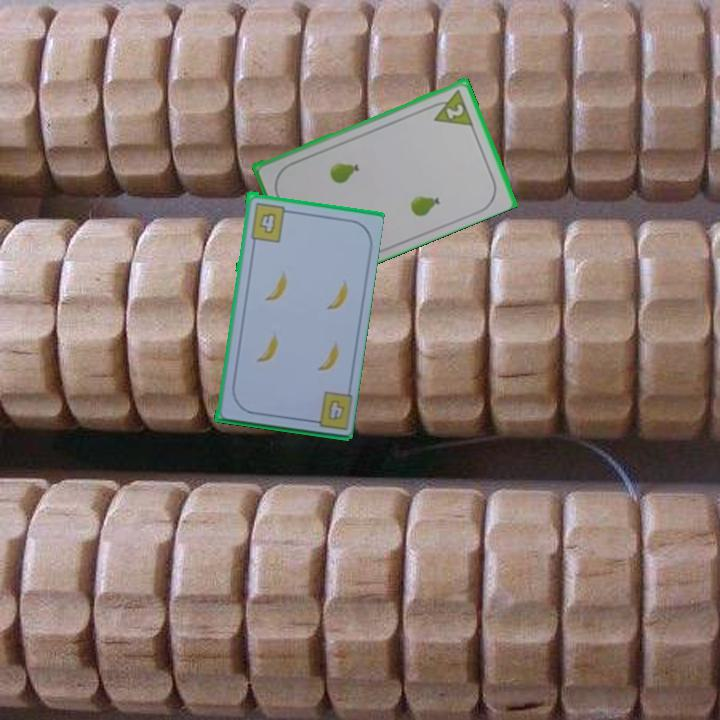2p: (426, 85, 476, 128)
4b: (305, 387, 353, 432), (246, 199, 293, 244)
